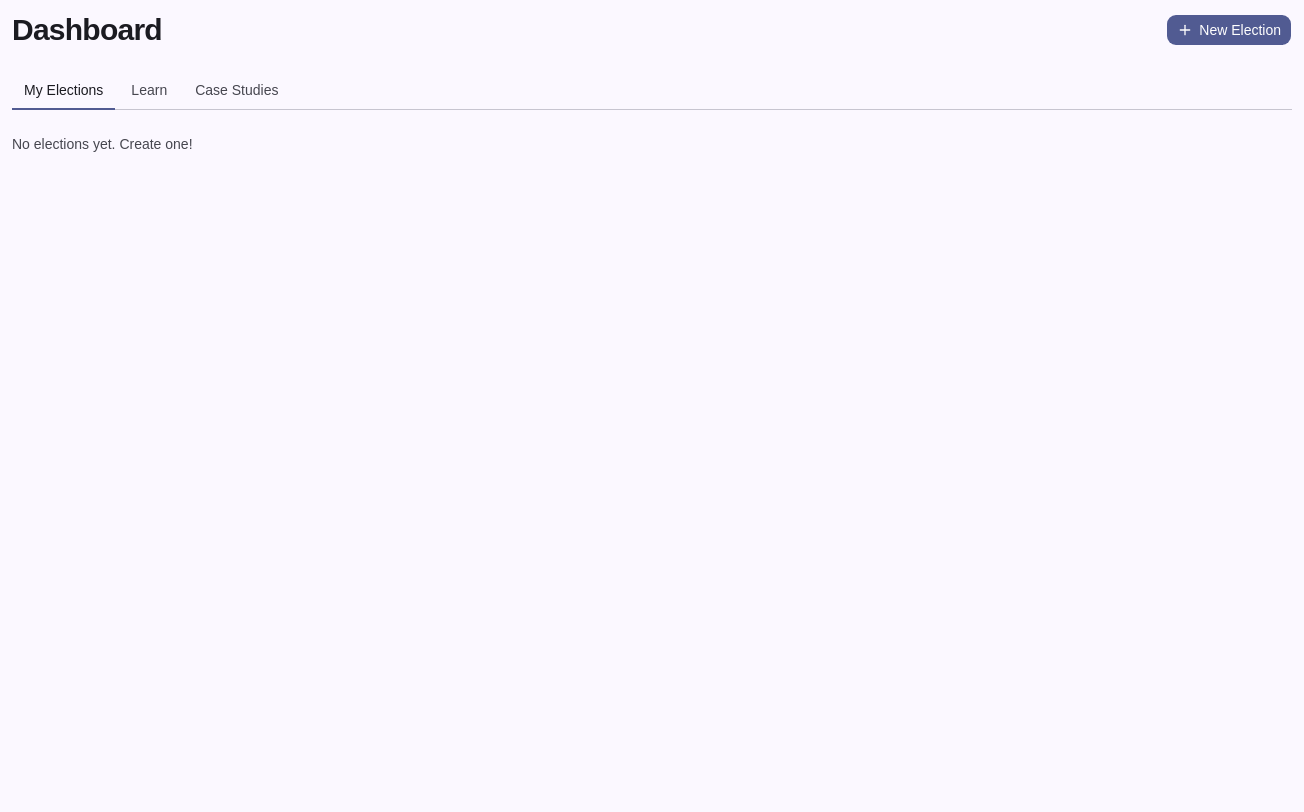
Test: Dashboard › renders the voting-algorithm explainer on the Learn tab
Click the tab "Learn" at (149, 91), box [119, 72, 179, 110]
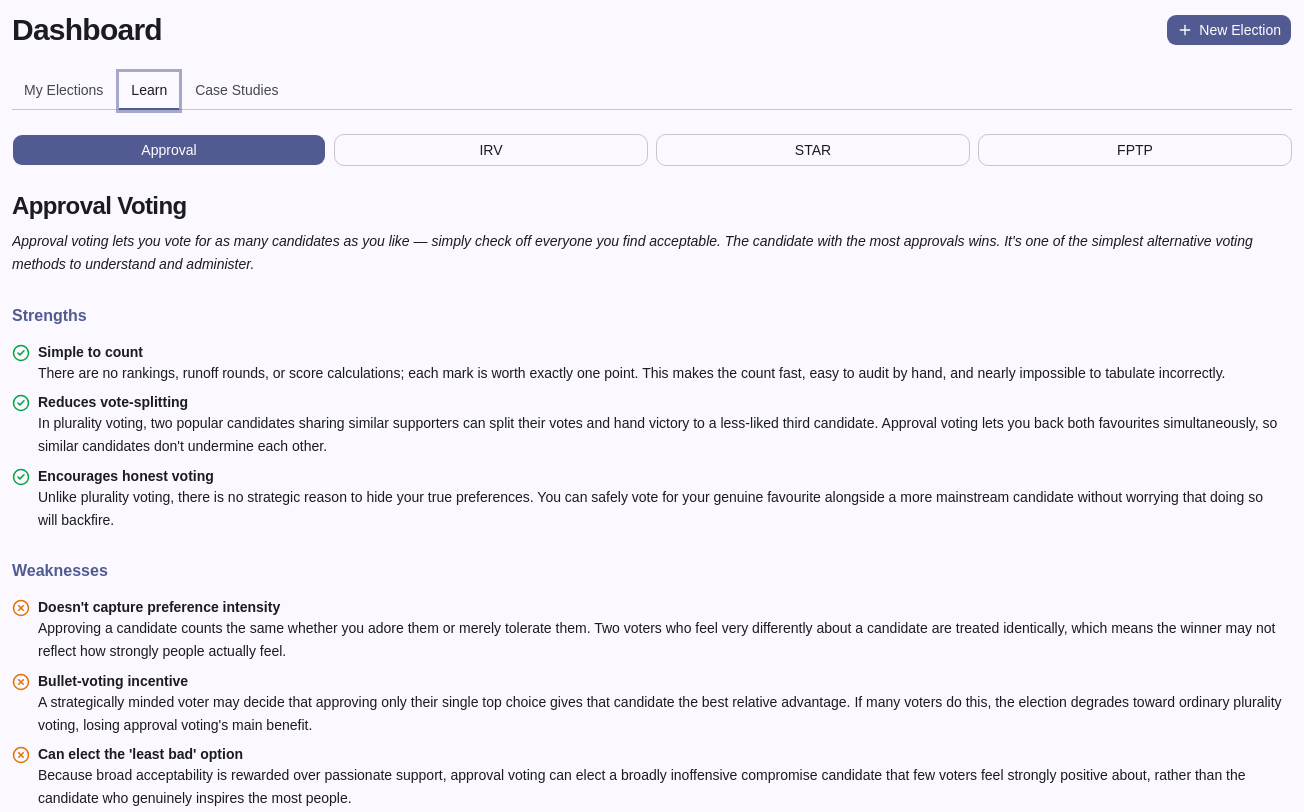
Expected: the heading "Approval Voting" is shown, [12, 192, 187, 219]
Expected: the element named "Voting algorithm" is shown, [12, 134, 1292, 166]
